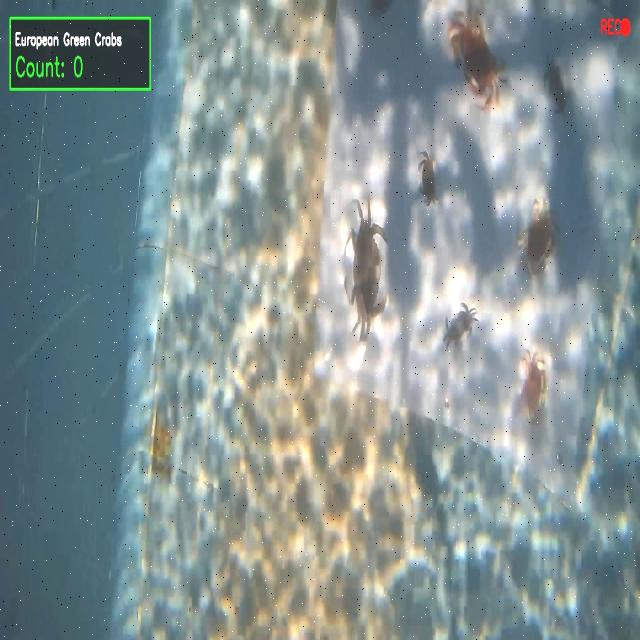European_Green_Crab: (341, 191, 389, 341), (438, 289, 481, 361), (543, 52, 570, 118)
